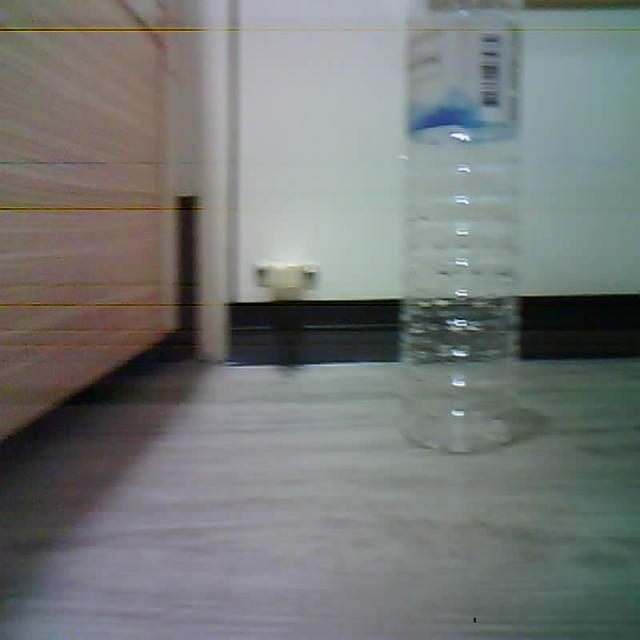bottle: (401, 0, 521, 451)
